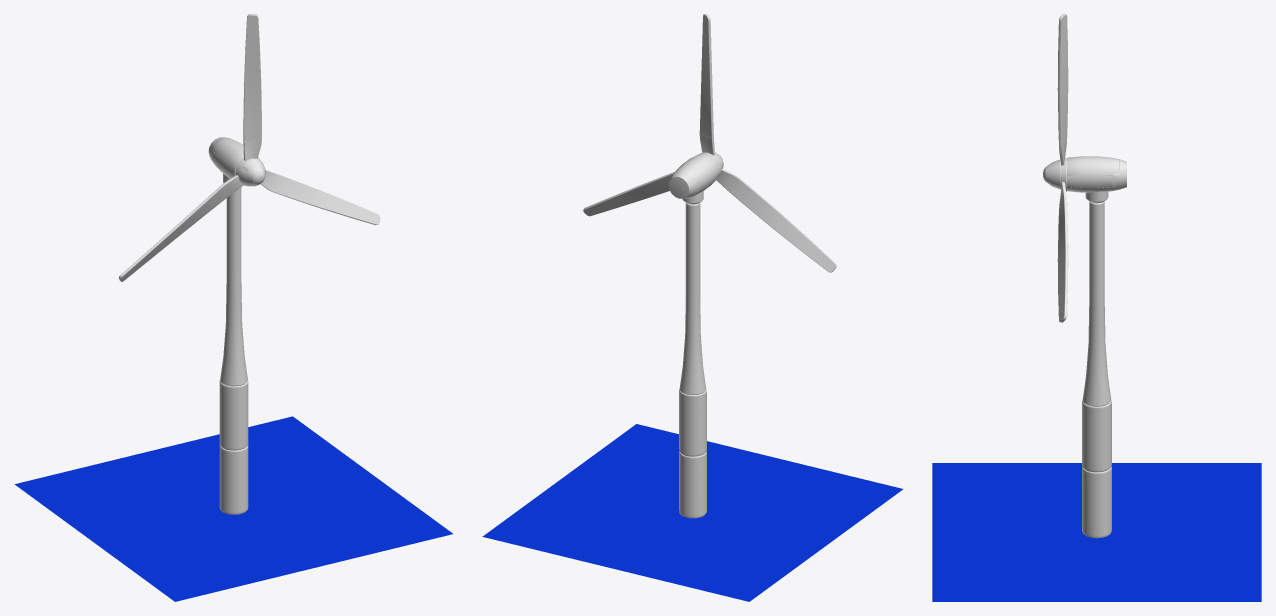
Rendered from windrad_blue.fbx.
The picture shows the model from 3 angles, left to right: view 1: azimuth 30°, elevation 25°; view 2: azimuth 150°, elevation 25°; view 3: azimuth 270°, elevation 25°; orthographic projection. The views are drawn at different scales.
Parts seen in each view (by area): view 1: two_two, Windrad_01:cylinder84, Windrad_01:polymsh_extracted67, Windrad_01:polymsh_detached134, polymsh_detached134, Windrad_01:polymsh_extracted72, Windrad_01:polymsh_extracted71, Windrad_01:polymsh_extracted65; view 2: two_two, Windrad_01:cylinder84, Windrad_01:polymsh_extracted71, polymsh_detached134, Windrad_01:polymsh_detached134, Windrad_01:polymsh_extracted67, Windrad_01:polymsh_extracted72, Windrad_01:polymsh_extracted65, Windrad_01:polymsh_detached131; view 3: two_two, Windrad_01:cylinder84, Windrad_01:polymsh_detached134, polymsh_detached134, Windrad_01:polymsh_extracted67, Windrad_01:polymsh_extracted65, Windrad_01:polymsh_extracted72, Windrad_01:polymsh_detached132.
Part boxes in pixels (<box>): two_two: <box>15,416,452,601</box>; Windrad_01:cylinder84: <box>220,187,247,386</box>; Windrad_01:polymsh_extracted67: <box>243,14,261,141</box>; Windrad_01:polymsh_detached134: <box>219,380,248,450</box>; polymsh_detached134: <box>219,444,248,514</box>; Windrad_01:polymsh_extracted72: <box>273,174,380,225</box>; Windrad_01:polymsh_extracted71: <box>119,186,226,281</box>; Windrad_01:polymsh_extracted65: <box>213,137,258,178</box>; two_two: <box>482,424,903,601</box>; Windrad_01:cylinder84: <box>679,203,706,394</box>; Windrad_01:polymsh_extracted71: <box>729,178,836,272</box>; polymsh_detached134: <box>679,451,706,518</box>; Windrad_01:polymsh_detached134: <box>679,389,706,456</box>; Windrad_01:polymsh_extracted67: <box>699,14,713,138</box>; Windrad_01:polymsh_extracted72: <box>583,172,674,216</box>; Windrad_01:polymsh_extracted65: <box>674,153,719,197</box>; Windrad_01:polymsh_detached131: <box>668,172,699,198</box>; two_two: <box>932,463,1261,601</box>; Windrad_01:cylinder84: <box>1082,201,1111,406</box>; Windrad_01:polymsh_detached134: <box>1082,400,1111,472</box>; polymsh_detached134: <box>1082,466,1111,538</box>; Windrad_01:polymsh_extracted67: <box>1057,14,1068,147</box>; Windrad_01:polymsh_extracted65: <box>1067,156,1119,192</box>; Windrad_01:polymsh_extracted72: <box>1057,199,1068,322</box>; Windrad_01:polymsh_detached132: <box>1067,175,1111,187</box>.
Size of the model in its own units: 2 by 3.47 by 2.
